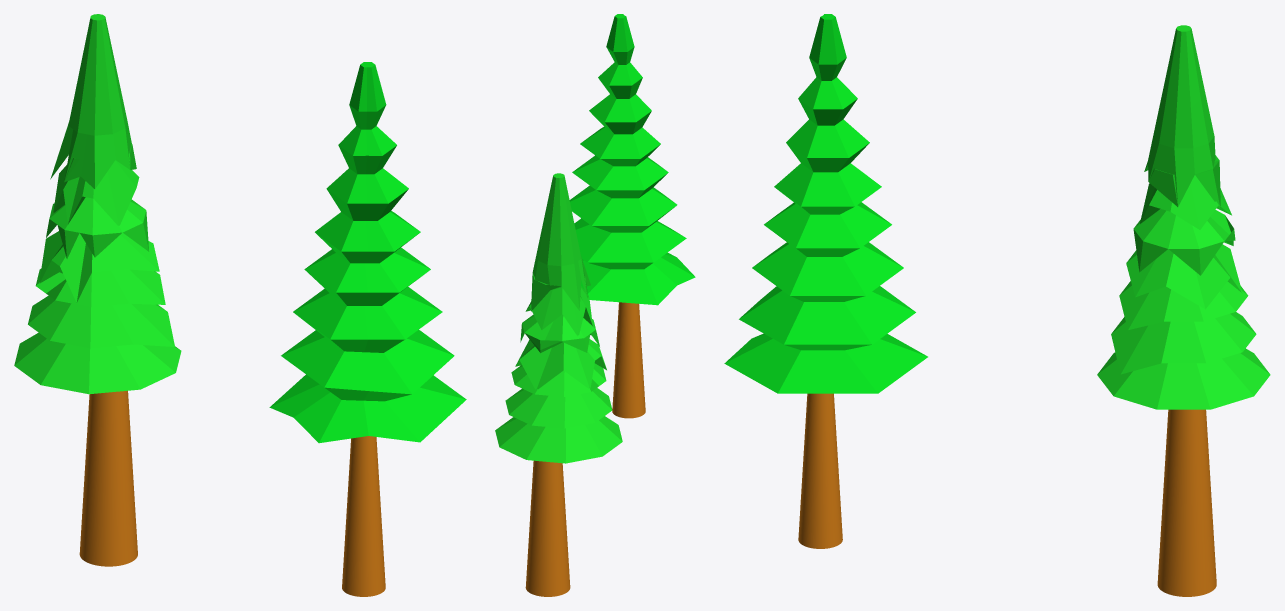
File: Tree.fbx
The picture shows the model from 3 angles, left to right: view 1: azimuth 30°, elevation 25°; view 2: azimuth 150°, elevation 25°; view 3: azimuth 270°, elevation 25°; orthographic projection. The views are drawn at different scales.
Parts seen in each view (by area): view 1: Cylinder, Cylinder.001, Cylinder.003, Cylinder.002; view 2: Cylinder.001, Cylinder, Cylinder.003, Cylinder.002; view 3: Cylinder, Cylinder.001, Cylinder.003, Cylinder.002.
Part boxes in pixels (left/top/right/bottom): Cylinder: left=269, top=62, right=466, bottom=443; Cylinder.001: left=14, top=14, right=181, bottom=394; Cylinder.003: left=79, top=390, right=137, bottom=566; Cylinder.002: left=342, top=436, right=385, bottom=596; Cylinder.001: left=495, top=173, right=622, bottom=463; Cylinder: left=569, top=14, right=695, bottom=305; Cylinder.003: left=525, top=460, right=570, bottom=596; Cylinder.002: left=612, top=302, right=645, bottom=418; Cylinder: left=724, top=14, right=927, bottom=393; Cylinder.001: left=1097, top=25, right=1270, bottom=409; Cylinder.003: left=1157, top=409, right=1216, bottom=596; Cylinder.002: left=798, top=393, right=842, bottom=548.
Bounding box in the file's own units: 625 × 1495 × 1217.
